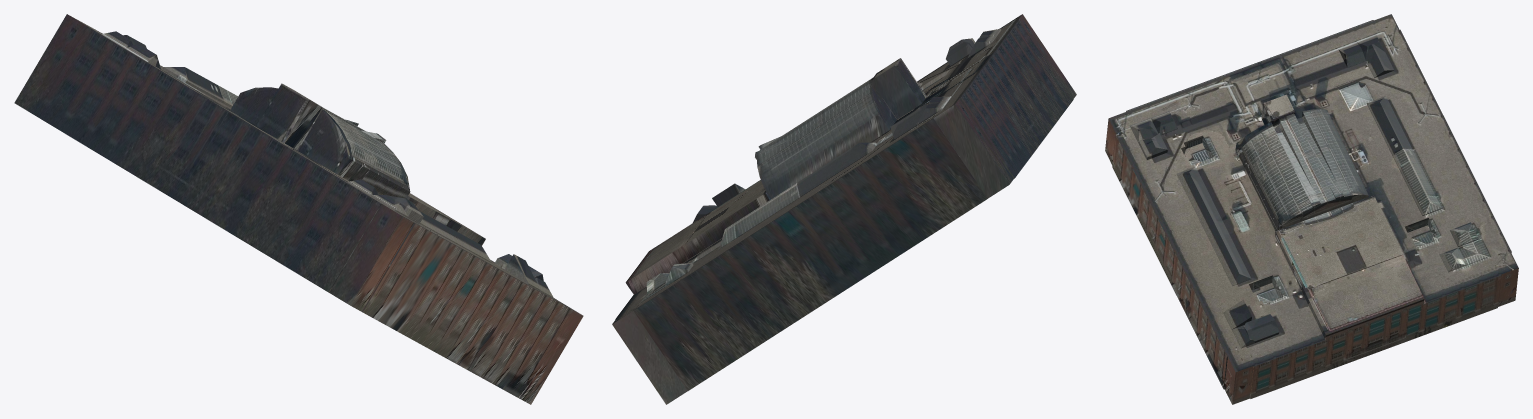
3 views of the same model, side by side, from view 1: azimuth 30°, elevation 25°; view 2: azimuth 150°, elevation 25°; view 3: azimuth 270°, elevation 25° (orthographic). The views are drawn at different scales.
Visible parts, largest first — view 1: mesh; view 2: mesh; view 3: mesh.
Part boxes in pixels (x1,y1,x2,y2): mesh: [14, 14, 583, 404]; mesh: [612, 14, 1076, 404]; mesh: [1105, 14, 1518, 404].
Size of the model in its own units: 87.5 by 71.36 by 98.2.
18 materials, 18 textured.
